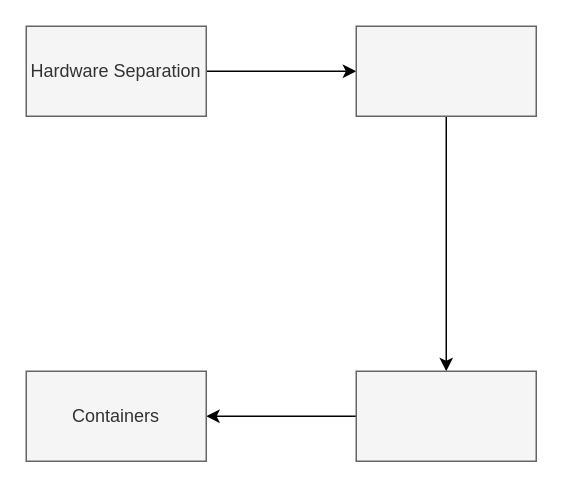
Some shapes in this 563 by 488 pixel diagram are drawn without their labels. Here are the shapes that lost their labels. From the top down, the box of each, then its label:
(355, 25, 536, 116): User Seperation
(355, 370, 536, 461): VMs
